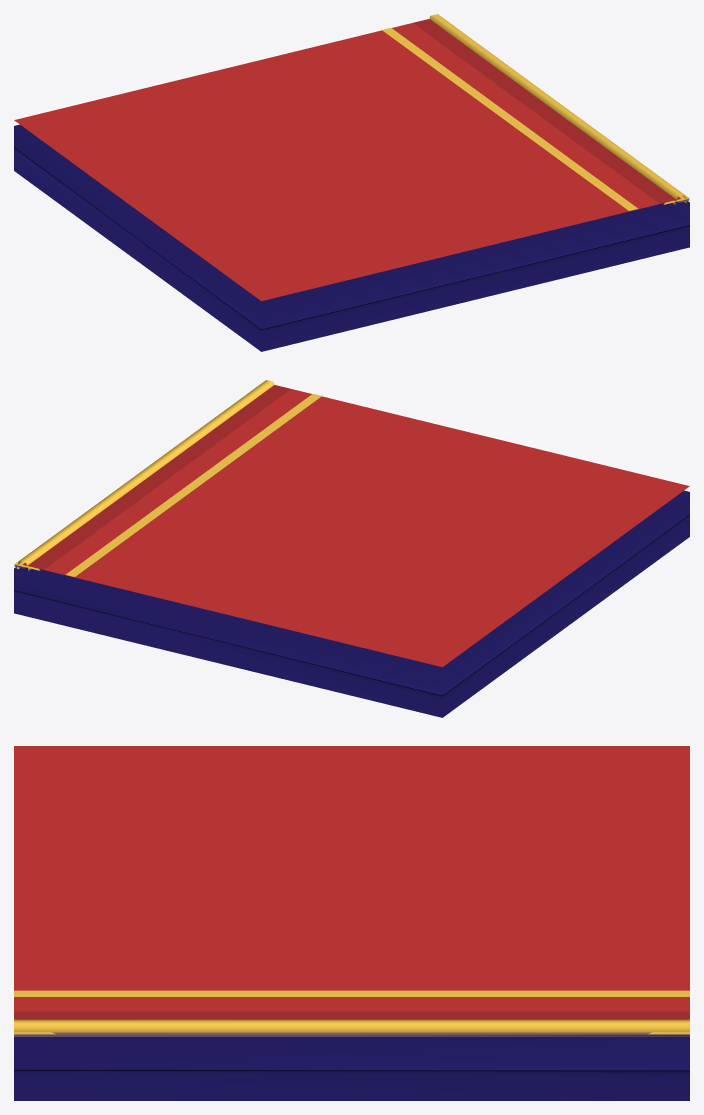
The model's file is tile_red_carpet_r.glb.
3 renders of one model, top to bottom at view 1: azimuth 30°, elevation 25°; view 2: azimuth 150°, elevation 25°; view 3: azimuth 270°, elevation 25°, orthographic. The views are drawn at different scales.
Visible parts, largest first — view 1: Tile.001; view 2: Tile.001; view 3: Tile.001.
Part boxes in pixels (left/top/right/bottom): Tile.001: left=14, top=14, right=689, bottom=351; Tile.001: left=14, top=380, right=689, bottom=717; Tile.001: left=14, top=746, right=689, bottom=1100.
Bounding box in the file's own units: 1 × 0.1191 × 1.
